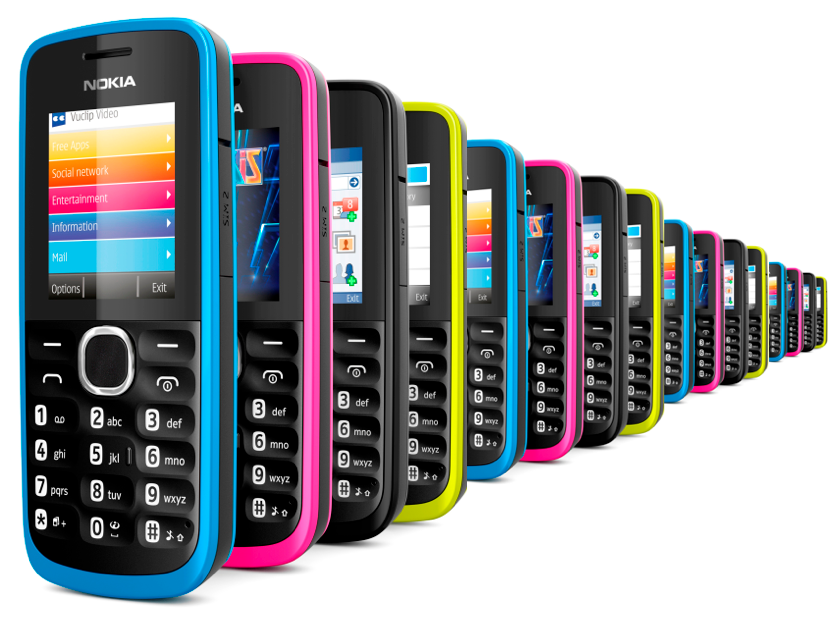phone: (9, 4, 234, 599)
